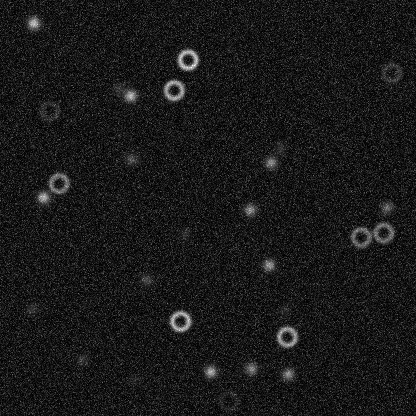Ring: (216, 388, 240, 412), (175, 47, 199, 71), (37, 99, 61, 123), (161, 78, 185, 102), (379, 60, 403, 84), (168, 309, 192, 333), (46, 171, 70, 195), (274, 324, 298, 348), (348, 224, 372, 248), (371, 220, 395, 244)
Spot: (122, 150, 138, 166), (23, 300, 39, 316), (243, 360, 259, 376), (202, 363, 218, 379), (122, 87, 138, 103), (73, 351, 89, 367), (378, 199, 394, 215), (25, 14, 41, 30), (260, 256, 276, 272), (279, 366, 295, 382), (262, 154, 278, 170), (272, 140, 288, 156), (176, 225, 192, 241), (138, 271, 154, 287), (110, 80, 126, 96), (35, 189, 51, 205), (241, 201, 257, 217), (126, 371, 142, 387), (276, 302, 292, 318)
